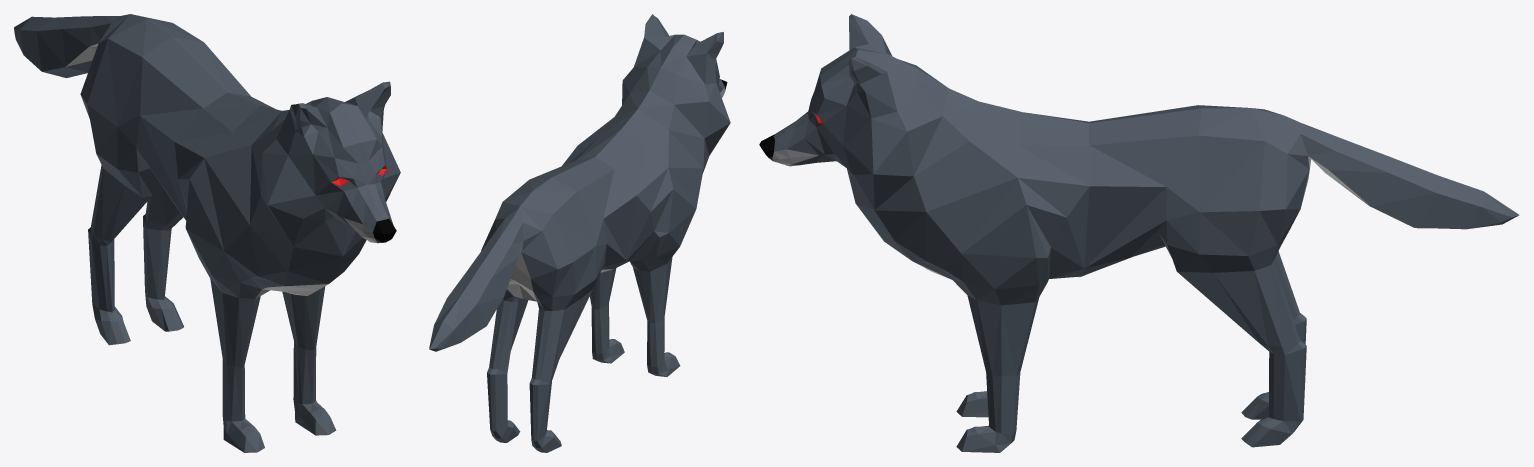
The model's file is quadruped_wolf.gltf.
3 renders of one model, left to right at view 1: azimuth 30°, elevation 25°; view 2: azimuth 150°, elevation 25°; view 3: azimuth 270°, elevation 25°, orthographic. The views are drawn at different scales.
Parts seen in each view (by area): view 1: wolf_colorMap; view 2: wolf_colorMap; view 3: wolf_colorMap.
Part boxes in pixels (box(x1,y1,x2,y2)): wolf_colorMap: box(14, 14, 400, 452); wolf_colorMap: box(429, 14, 730, 452); wolf_colorMap: box(759, 14, 1519, 452).
Bounding box in the file's own units: 30.64 × 82.8 × 145.
